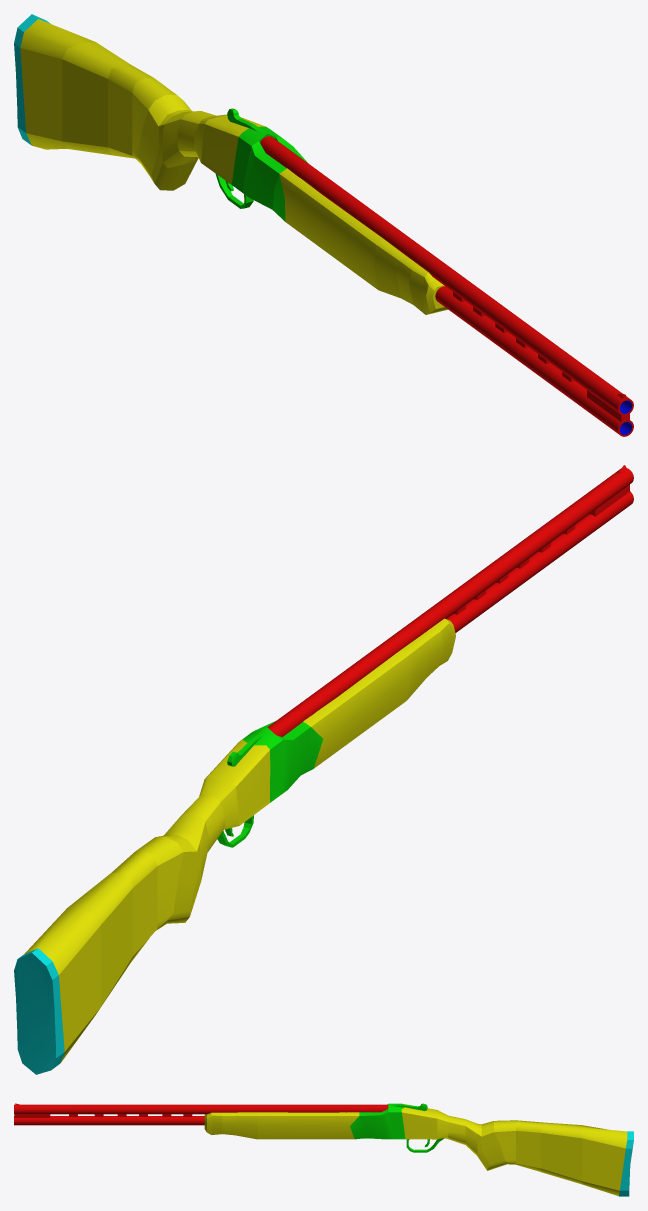
Rendered from Shotgun_BA.fbx.
3 views of the same model, one above another, from view 1: azimuth 30°, elevation 25°; view 2: azimuth 150°, elevation 25°; view 3: azimuth 270°, elevation 25° (orthographic). The views are drawn at different scales.
Visible parts, largest first — view 1: BA_Back, BA_Front; view 2: BA_Back, BA_Front; view 3: BA_Back, BA_Front.
Boxes of the visible parts, x1,y1,x2,y2 form: BA_Back: (14, 14, 308, 221); BA_Front: (260, 136, 633, 436); BA_Back: (14, 721, 323, 1074); BA_Front: (267, 465, 633, 768); BA_Back: (350, 1103, 633, 1196); BA_Front: (14, 1103, 388, 1139).
Size of the model in its own units: 5.24 by 23.28 by 140.
